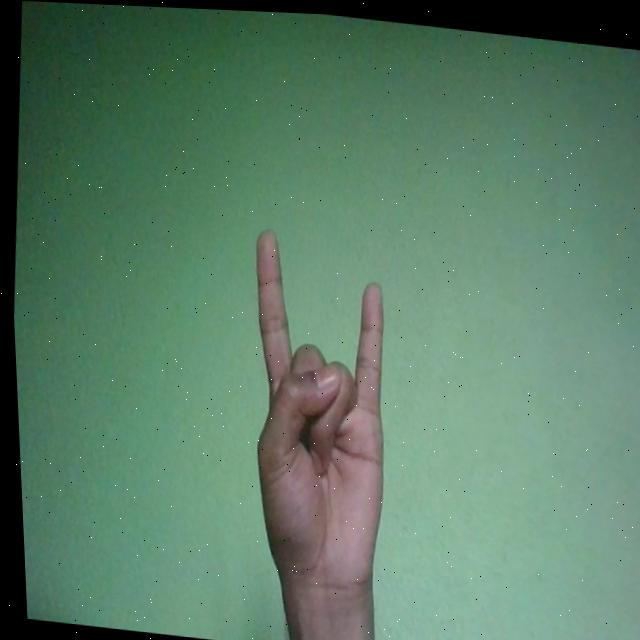Rock On: (230, 223, 401, 604)
